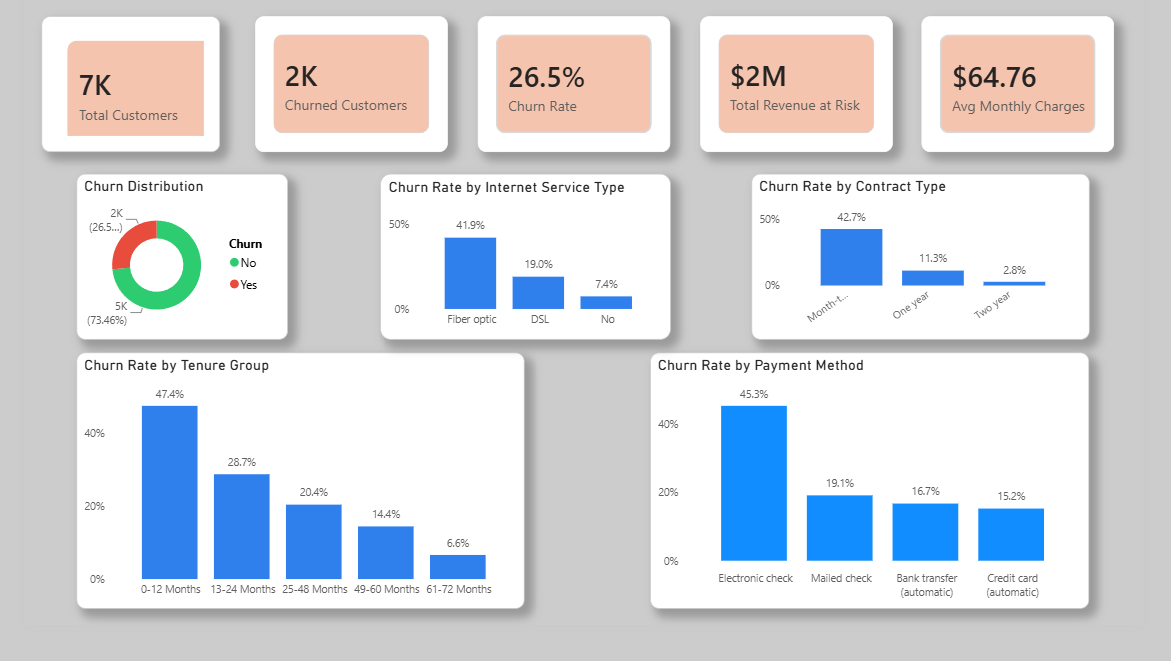

Layout of this report page (visuals, bound fields, positions):
{"tool":"powerbi","page":{"name":"Executive Overview","canvas":[1280,720],"ordinal":0},"visuals":[{"type":"cardVisual","fields":{"Data":["CustomerChurn.Churned Customers"]},"box":[264.9,24.8,220,155],"z":0},{"type":"cardVisual","fields":{"Data":["CustomerChurn.Churn Rate"]},"box":[518.6,24.8,220,155],"z":1000},{"type":"cardVisual","fields":{"Data":["CustomerChurn.Total Revenue at Risk"]},"box":[772.4,24.8,220,155],"z":2000},{"type":"cardVisual","fields":{"Data":["CustomerChurn.Avg Monthly Charges"]},"box":[1026.1,24.8,220,155],"z":3000},{"type":"donutChart","title":"Churn Distribution","fields":{"Category":["CustomerChurn.Churn"],"Y":["CustomerChurn.Total Customers"]},"box":[59.9,204.4,241.5,189.9],"z":4000},{"type":"clusteredColumnChart","title":"Churn Rate by Contract Type","fields":{"Category":["CustomerChurn.Contract"],"Y":["CustomerChurn.Churn Rate"]},"box":[832,204.4,386.1,189.9],"z":5000},{"type":"clusteredColumnChart","title":"Churn Rate by Tenure Group","fields":{"Category":["CustomerChurn.Tenure Group"],"Y":["CustomerChurn.Churn Rate"]},"box":[59.9,408.8,512,293.2],"z":6000},{"type":"clusteredColumnChart","title":"Churn Rate by Payment Method","fields":{"Category":["CustomerChurn.Payment Method"],"Y":["CustomerChurn.Churn Rate"]},"box":[716.4,408.8,501.7,293.2],"z":7000},{"type":"clusteredColumnChart","title":"Churn Rate by Internet Service Type","fields":{"Category":["CustomerChurn.Internet Service"],"Y":["CustomerChurn.Churn Rate"]},"box":[406.7,204.4,332.4,189.9],"z":8000},{"type":"cardVisual","fields":{"Data":["CustomerChurn.Total Customers"]},"box":[20,24.8,204.4,155],"z":9000}]}

Visuals, with their boxes in screenshot pixels (x1, y1, x2, y2), scaled from the page's 1280x720 canvas onto the 1171x661 screenshot:
cardVisual - CustomerChurn.Churned Customers: box=[242, 23, 444, 165]
cardVisual - CustomerChurn.Churn Rate: box=[474, 23, 676, 165]
cardVisual - CustomerChurn.Total Revenue at Risk: box=[707, 23, 908, 165]
cardVisual - CustomerChurn.Avg Monthly Charges: box=[939, 23, 1140, 165]
"Churn Distribution" donutChart: box=[55, 188, 276, 362]
"Churn Rate by Contract Type" clusteredColumnChart: box=[761, 188, 1114, 362]
"Churn Rate by Tenure Group" clusteredColumnChart: box=[55, 375, 523, 644]
"Churn Rate by Payment Method" clusteredColumnChart: box=[655, 375, 1114, 644]
"Churn Rate by Internet Service Type" clusteredColumnChart: box=[372, 188, 676, 362]
cardVisual - CustomerChurn.Total Customers: box=[18, 23, 205, 165]
